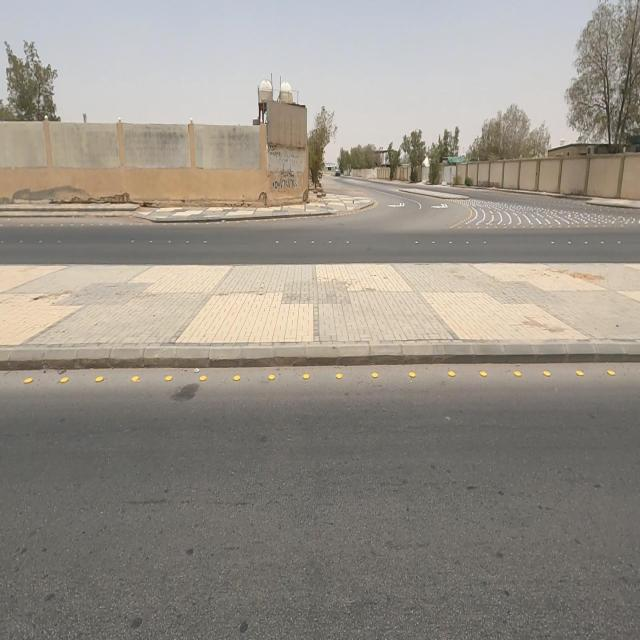Graffiti: (268, 146, 304, 190)
